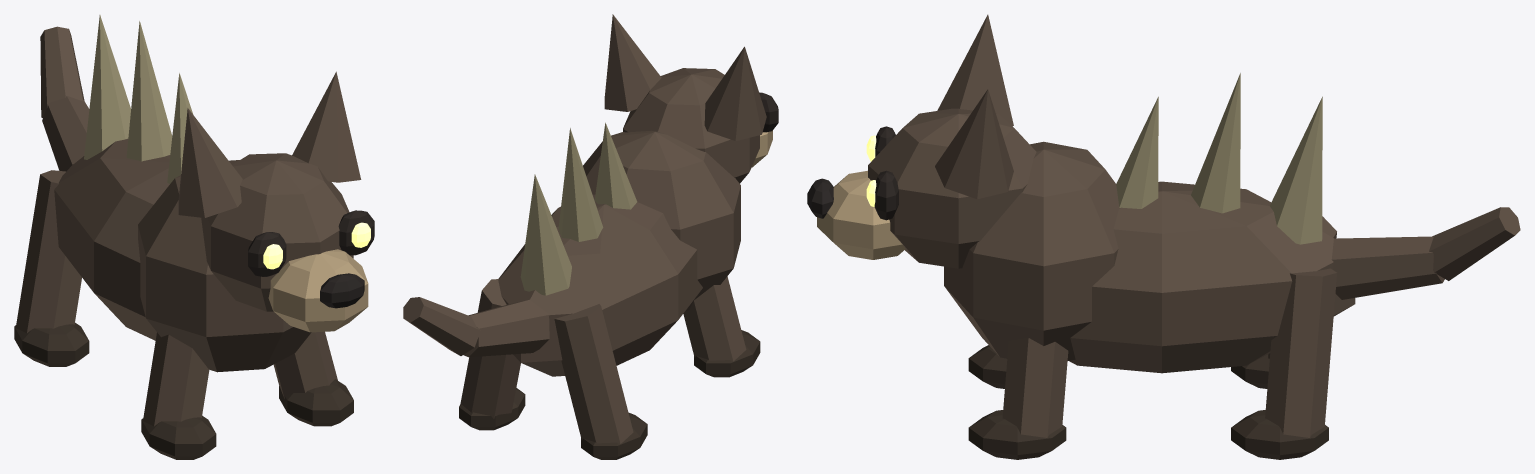
File: fauna-ridgeback_warg.glb
3 renders of one model, left to right at view 1: azimuth 30°, elevation 25°; view 2: azimuth 150°, elevation 25°; view 3: azimuth 270°, elevation 25°, orthographic. The views are drawn at different scales.
Visible parts, largest first — view 1: Fauna_ridgeback_warg; view 2: Fauna_ridgeback_warg; view 3: Fauna_ridgeback_warg.
Part boxes in pixels (box(x1,y1,x2,y2)): Fauna_ridgeback_warg: box(14, 15, 374, 459); Fauna_ridgeback_warg: box(403, 14, 778, 459); Fauna_ridgeback_warg: box(807, 14, 1520, 459).
Size of the model in its own units: 0.7132 by 1.24 by 2.17.
